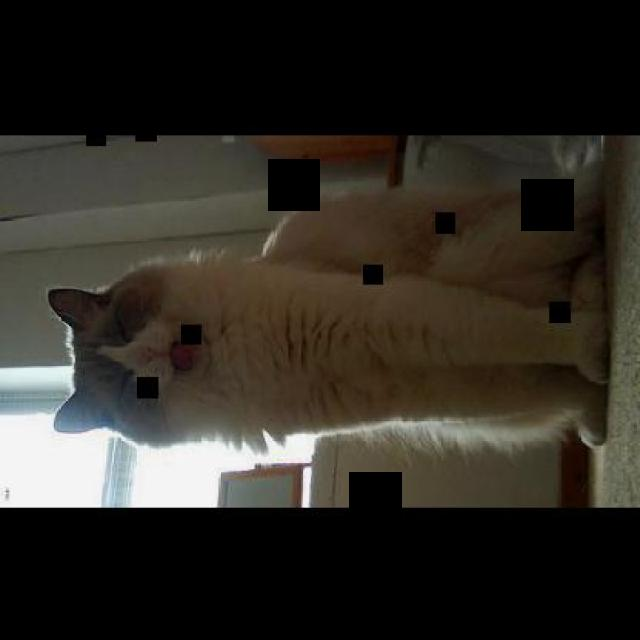unauthorized: (46, 137, 612, 455), (46, 243, 611, 386), (259, 136, 606, 310)
